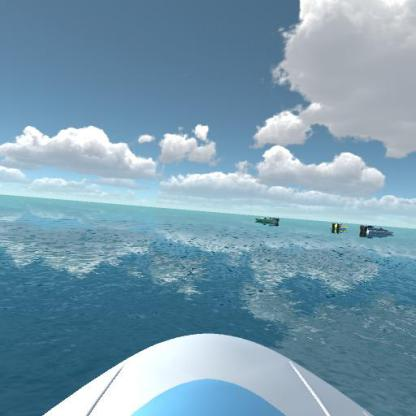usv0: (254, 211, 283, 228)
usv1: (358, 222, 397, 240)
usv2: (328, 218, 349, 235)
